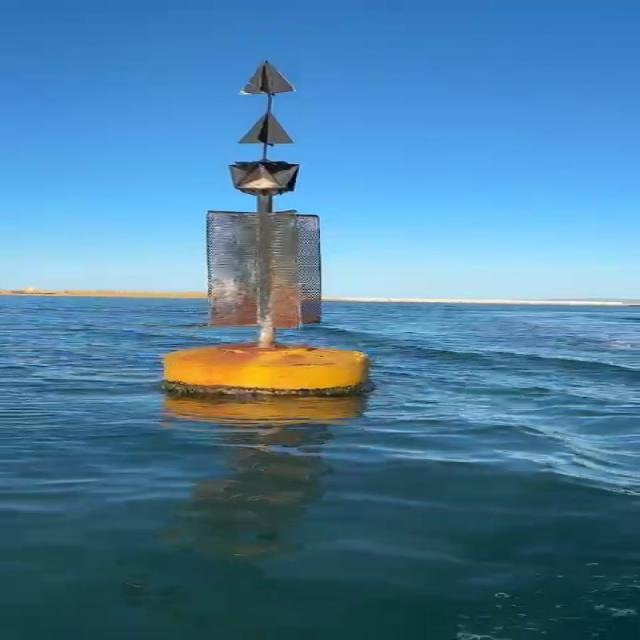marque: (162, 56, 379, 400)
